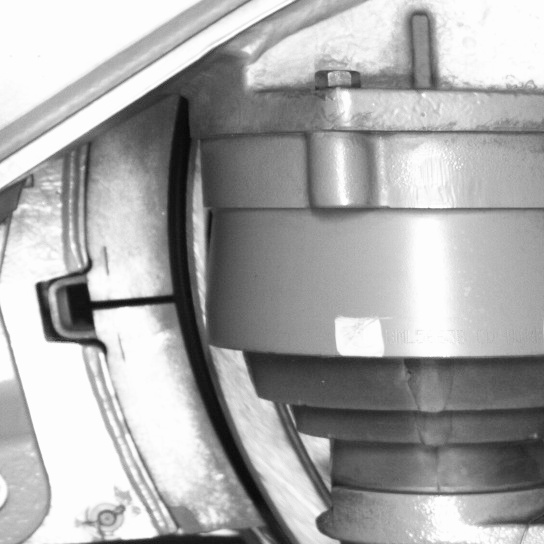KnifeSwitch: (103, 130, 301, 541)
